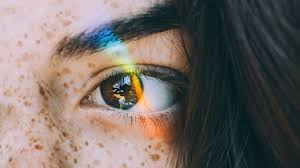pupil: (99, 74, 143, 108)
